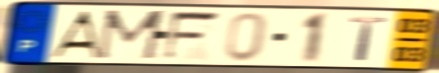0: (222, 10, 271, 63)
1: (301, 11, 333, 66)
A: (46, 10, 103, 60)
F: (160, 10, 223, 63)
M: (92, 9, 170, 62)
T: (348, 16, 390, 63)
